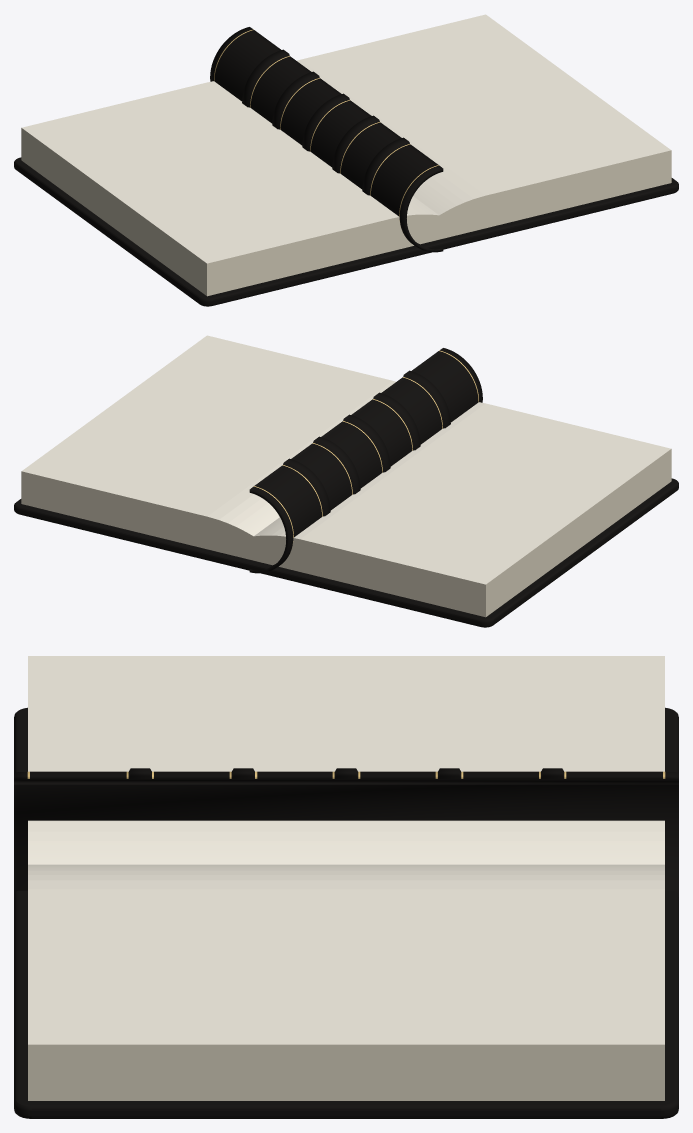
The model's file is book.glb.
3 views of the same model, one above another, from view 1: azimuth 30°, elevation 25°; view 2: azimuth 150°, elevation 25°; view 3: azimuth 270°, elevation 25° (orthographic). The views are drawn at different scales.
Parts seen in each view (by area): view 1: LeftHalf, RightHalf, Spine; view 2: LeftHalf, RightHalf, Spine; view 3: RightHalf, LeftHalf, Spine.
Part boxes in pixels (x1,y1,x2,y2): LeftHalf: (14, 81, 443, 306); RightHalf: (296, 14, 678, 249); Spine: (210, 27, 443, 252); LeftHalf: (249, 402, 678, 627); RightHalf: (14, 335, 396, 570); Spine: (249, 348, 482, 573); RightHalf: (14, 864, 678, 1118); LeftHalf: (14, 656, 678, 909); Spine: (14, 768, 678, 896).
Size of the model in its own units: 2.68 by 0.464 by 1.88.
